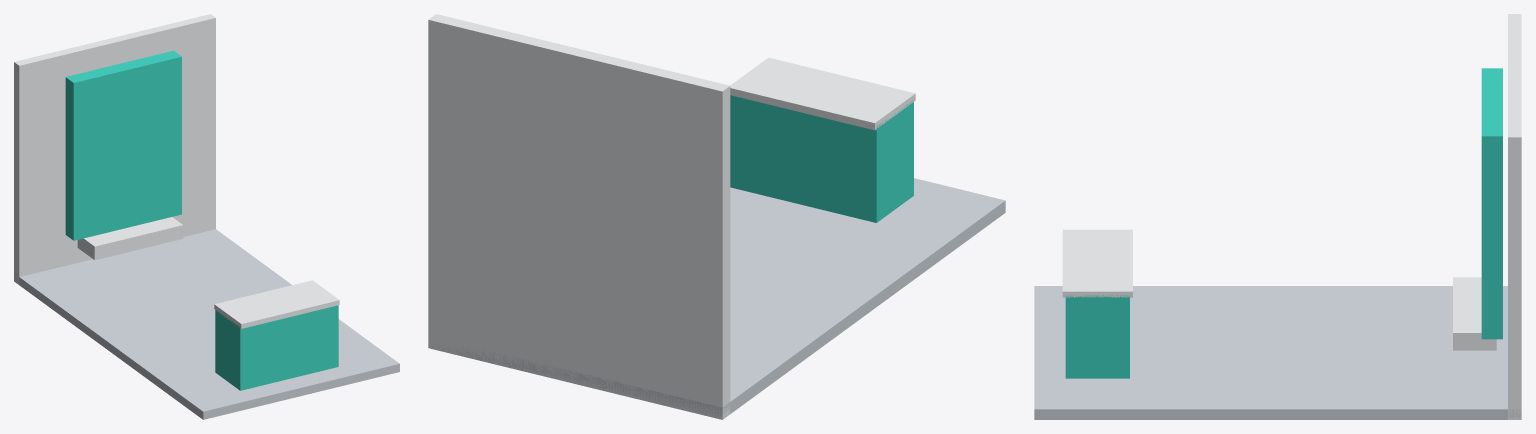
3 renders of one model, left to right at view 1: azimuth 30°, elevation 25°; view 2: azimuth 150°, elevation 25°; view 3: azimuth 270°, elevation 25°, orthographic. The views are drawn at different scales.
Visible parts, largest first — view 1: Exhibition Booth Concept; view 2: Exhibition Booth Concept; view 3: Exhibition Booth Concept.
Part boxes in pixels (<box>): Exhibition Booth Concept: <box>14,14,399,419</box>; Exhibition Booth Concept: <box>428,14,1005,419</box>; Exhibition Booth Concept: <box>1034,14,1521,419</box>.
Bounding box in the file's own units: 3 × 3.2 × 5.
